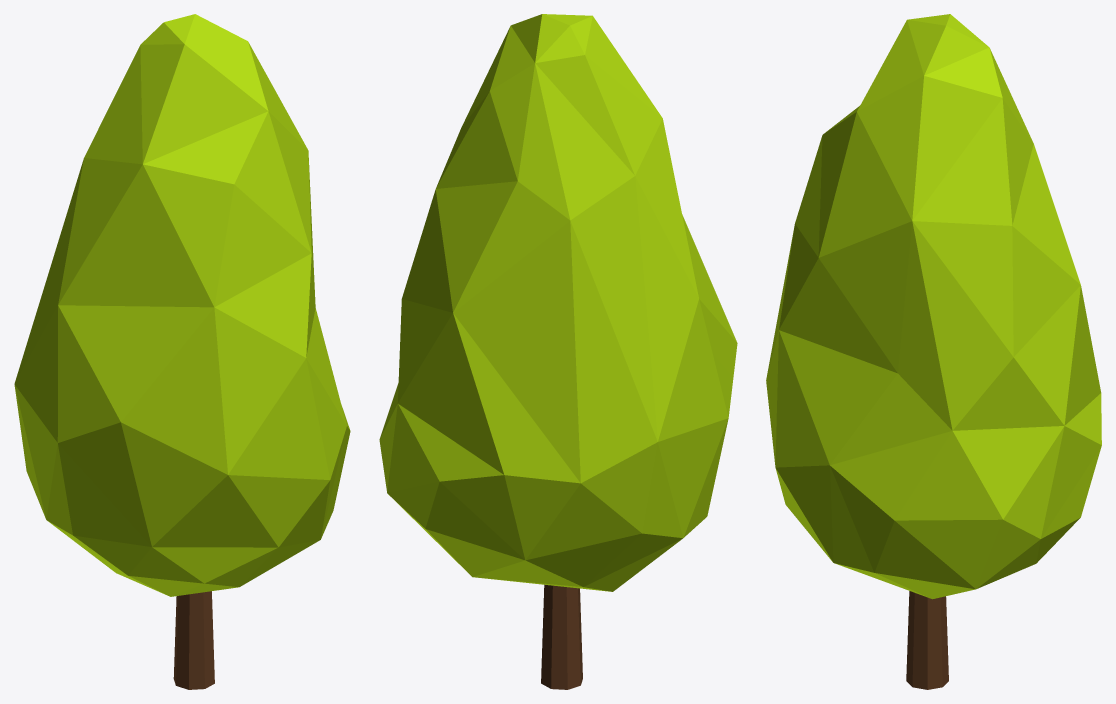
Rendered from SmallTreeA.fbx.
3 views of the same model, side by side, from view 1: azimuth 30°, elevation 25°; view 2: azimuth 150°, elevation 25°; view 3: azimuth 270°, elevation 25° (orthographic). The views are drawn at different scales.
Visible parts, largest first — view 1: SmallTreeA_geo; view 2: SmallTreeA_geo; view 3: SmallTreeA_geo.
Boxes of the visible parts, x1=… form: SmallTreeA_geo: x1=14, y1=14, x2=350, y2=689; SmallTreeA_geo: x1=379, y1=14, x2=737, y2=689; SmallTreeA_geo: x1=766, y1=14, x2=1101, y2=689.
Bounding box in the file's own units: 143 × 308 × 142.
